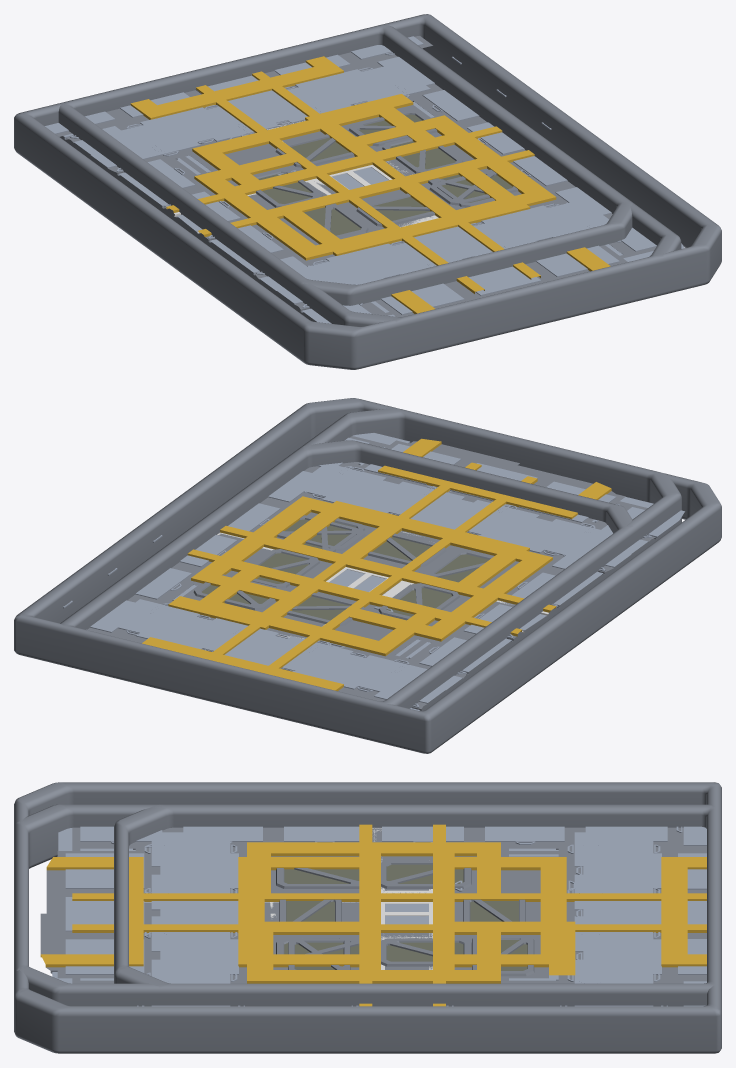
File: Ground_.fbx
3 renders of one model, top to bottom at view 1: azimuth 30°, elevation 25°; view 2: azimuth 150°, elevation 25°; view 3: azimuth 270°, elevation 25°, orthographic. The views are drawn at different scales.
Visible parts, largest first — view 1: Border (×3), pCube95 (×8), pCube100 (×10), pCube87 (×6), pPlane1 (×5); view 2: Border (×3), pCube95 (×8), pCube100 (×7), pCube87 (×7), pPlane1 (×5); view 3: Border (×3), pCube95 (×8), pCube100 (×10), pCube87 (×8), pPlane1 (×6).
Part boxes in pixels (bbox=[...]): Border (×3): bbox=[14, 14, 721, 369]; pCube95 (×8): bbox=[63, 71, 684, 316]; pCube100 (×10): bbox=[45, 36, 598, 323]; pCube87 (×6): bbox=[253, 110, 518, 226]; pPlane1 (×5): bbox=[258, 137, 455, 235]; Border (×3): bbox=[14, 398, 721, 753]; pCube95 (×8): bbox=[123, 433, 625, 710]; pCube100 (×7): bbox=[87, 465, 684, 693]; pCube87 (×7): bbox=[193, 515, 493, 625]; pPlane1 (×5): bbox=[257, 537, 488, 620]; Border (×3): bbox=[14, 782, 721, 1053]; pCube95 (×8): bbox=[40, 824, 706, 1006]; pCube100 (×10): bbox=[46, 826, 706, 1006]; pCube87 (×8): bbox=[276, 860, 534, 976]; pPlane1 (×6): bbox=[284, 864, 518, 961].
Size of the model in its own units: 410 by 36.61 by 530.
